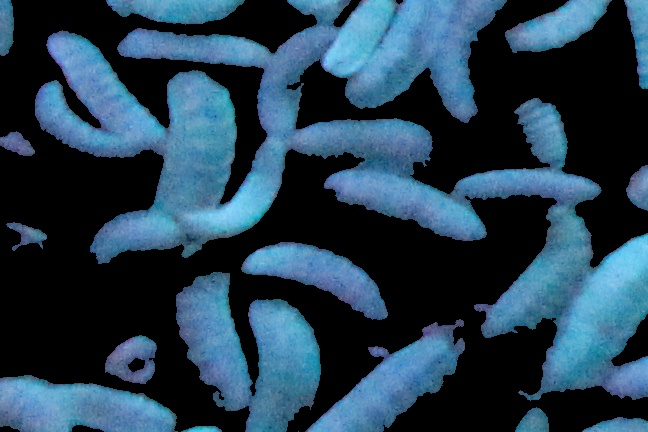larvae: (536, 236, 648, 395), (308, 325, 474, 432), (480, 204, 595, 338), (44, 31, 168, 147), (321, 166, 488, 245), (241, 235, 385, 322), (150, 71, 237, 213), (179, 132, 287, 243), (344, 1, 452, 106), (243, 300, 322, 432), (175, 269, 250, 407), (427, 1, 507, 123), (258, 28, 337, 135), (35, 83, 139, 157), (57, 376, 172, 432), (295, 120, 437, 165), (505, 1, 613, 58), (117, 29, 269, 69), (503, 85, 570, 169), (456, 166, 599, 204), (86, 213, 190, 262), (325, 1, 392, 76), (1, 370, 65, 432), (615, 2, 648, 90)
